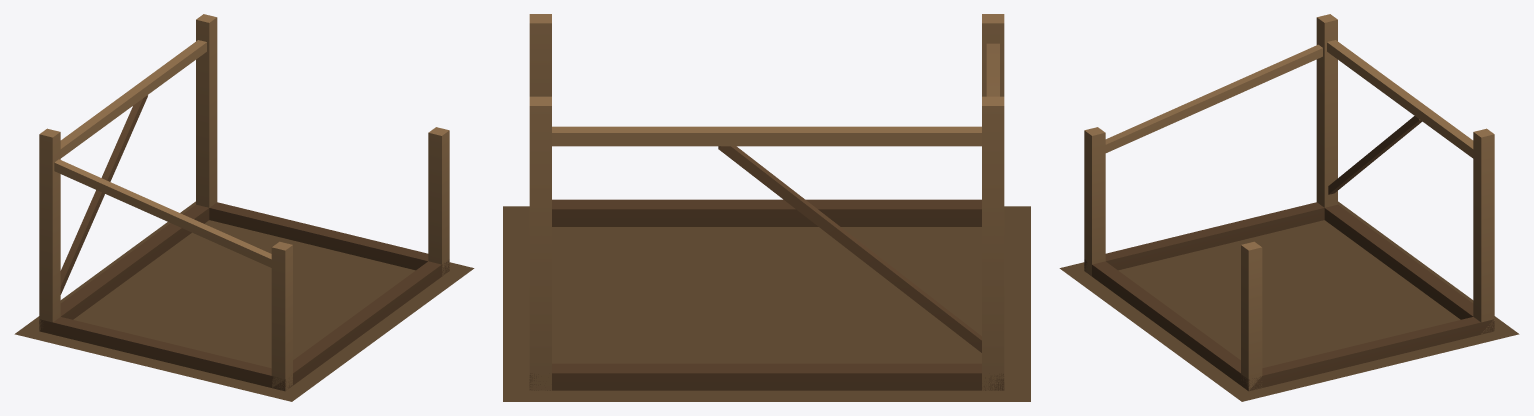
Rendered from site_medium.glb.
3 renders of one model, left to right at view 1: azimuth 30°, elevation 25°; view 2: azimuth 150°, elevation 25°; view 3: azimuth 270°, elevation 25°, orthographic. The views are drawn at different scales.
Visible parts, largest first — view 1: site_medium; view 2: site_medium; view 3: site_medium.
Boxes of the visible parts, x1,y1,x2,y2 form: site_medium: (14, 14, 474, 401); site_medium: (503, 14, 1030, 401); site_medium: (1059, 14, 1519, 401).
Size of the model in its own units: 0.9207 by 0.42 by 0.889.
